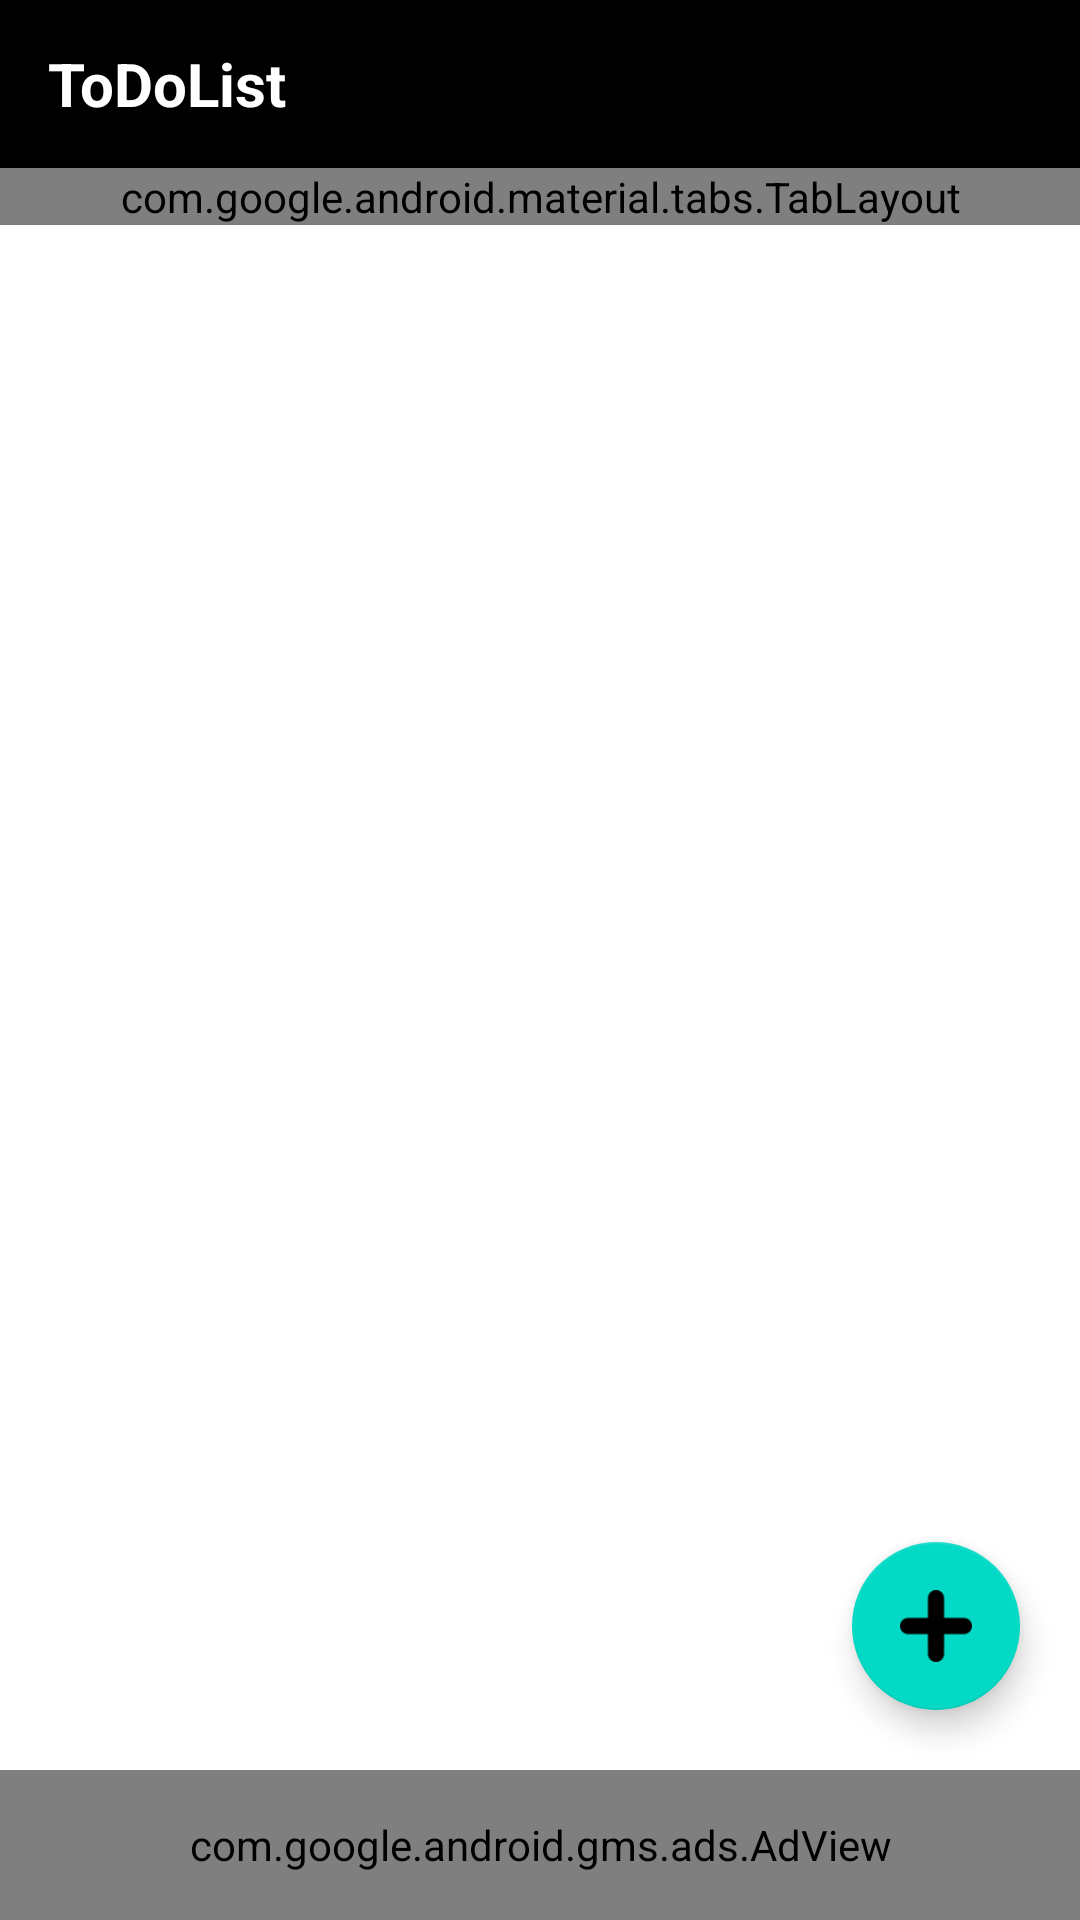

Where to tap for icons on this 1080x1920 app screen, as point (x, y):
add: point (936, 1626)
